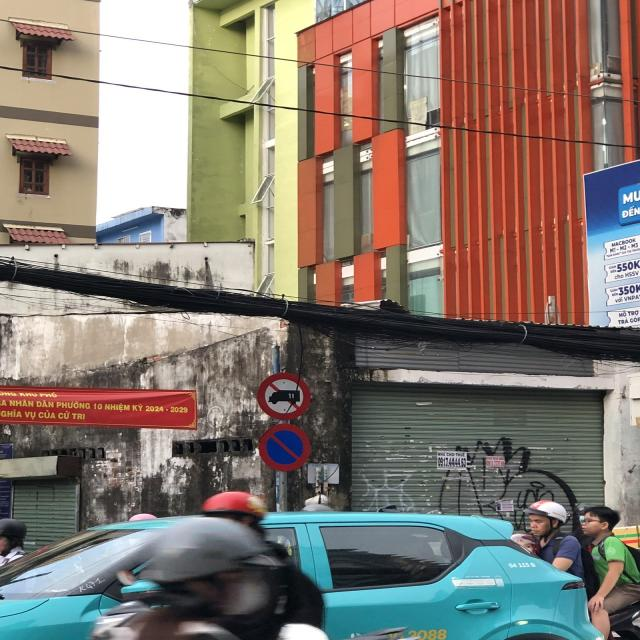Bien bao cam do xe: (257, 423, 317, 472)
Bien bao cam xe oto tai: (256, 369, 312, 421)
